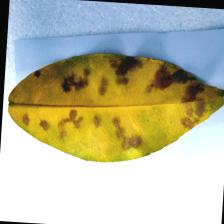canker: (23, 64, 210, 139)
